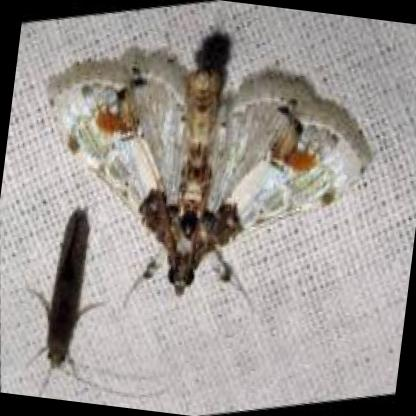leucinodes: (49, 70, 364, 294)
